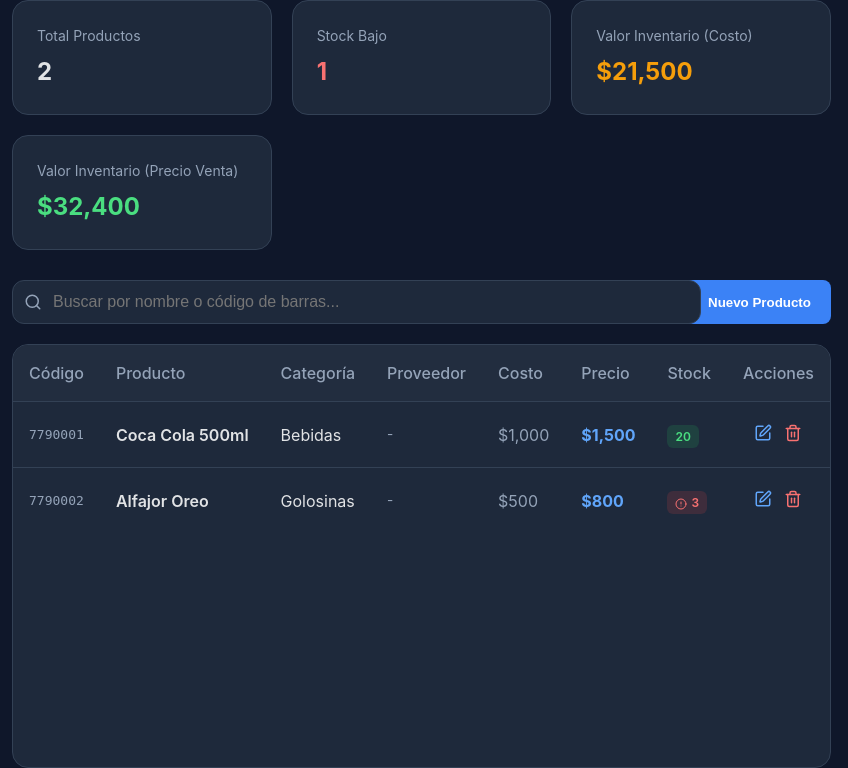
Inventario – search filter › filters products by name
Expected: the text "Coca Cola 500ml" is shown, 100,402 -> 265,468
Type "Alfajor" into the field with placeholder "Buscar por nombre o código de barras..." at (356, 302), box 12,280 -> 701,324
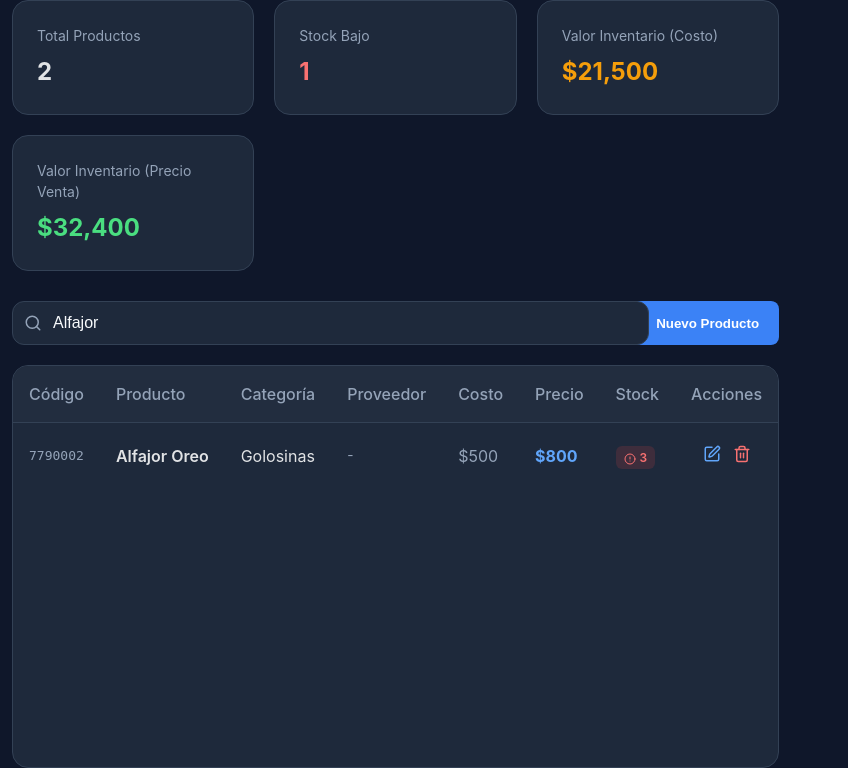
Expected: the text "Alfajor Oreo" is shown, 100,422 -> 225,488
Result: the text "Coca Cola 500ml" is gone
